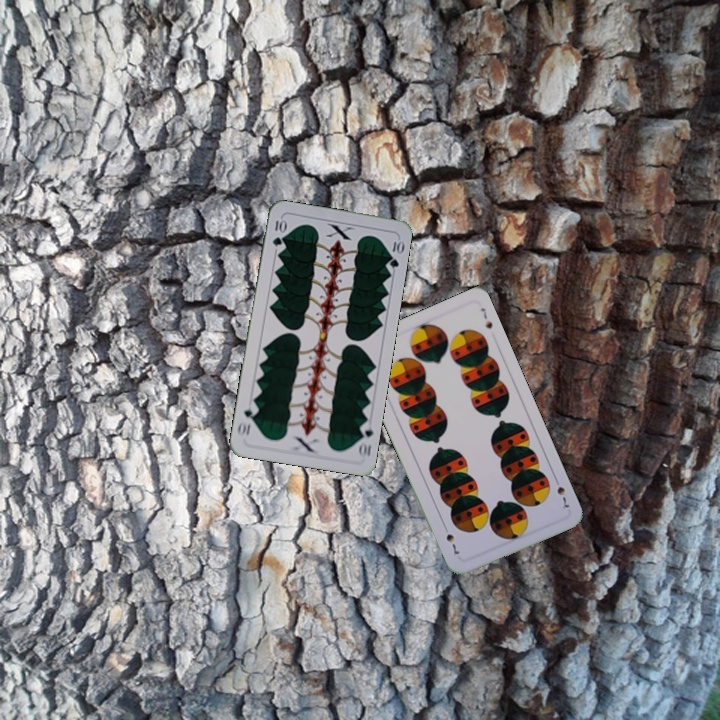G10: (354, 419, 376, 460), (268, 215, 287, 249)
S7: (551, 473, 572, 511)
